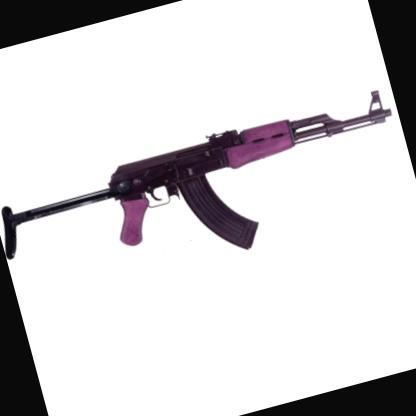rifle: (0, 60, 416, 332)
